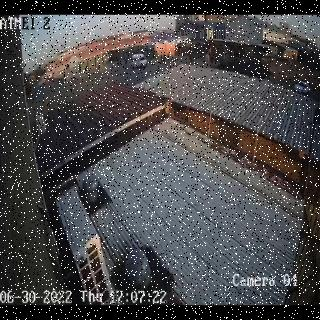car: (130, 52, 147, 68), (294, 80, 310, 92)
